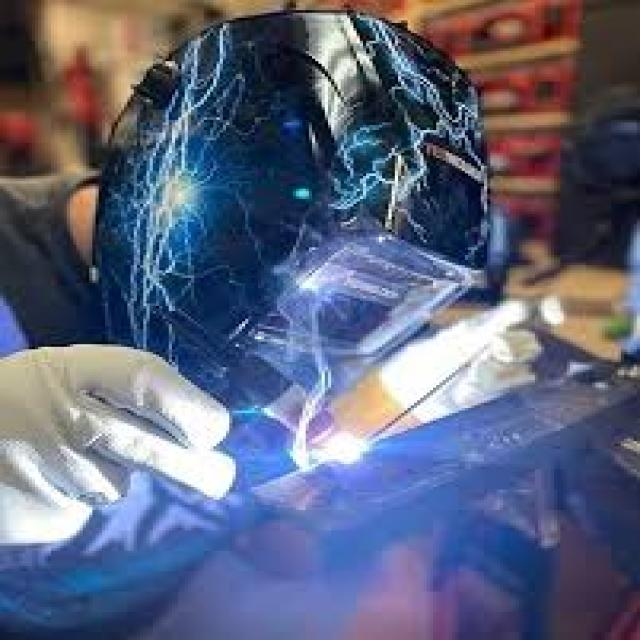welding: (324, 432, 371, 472)
